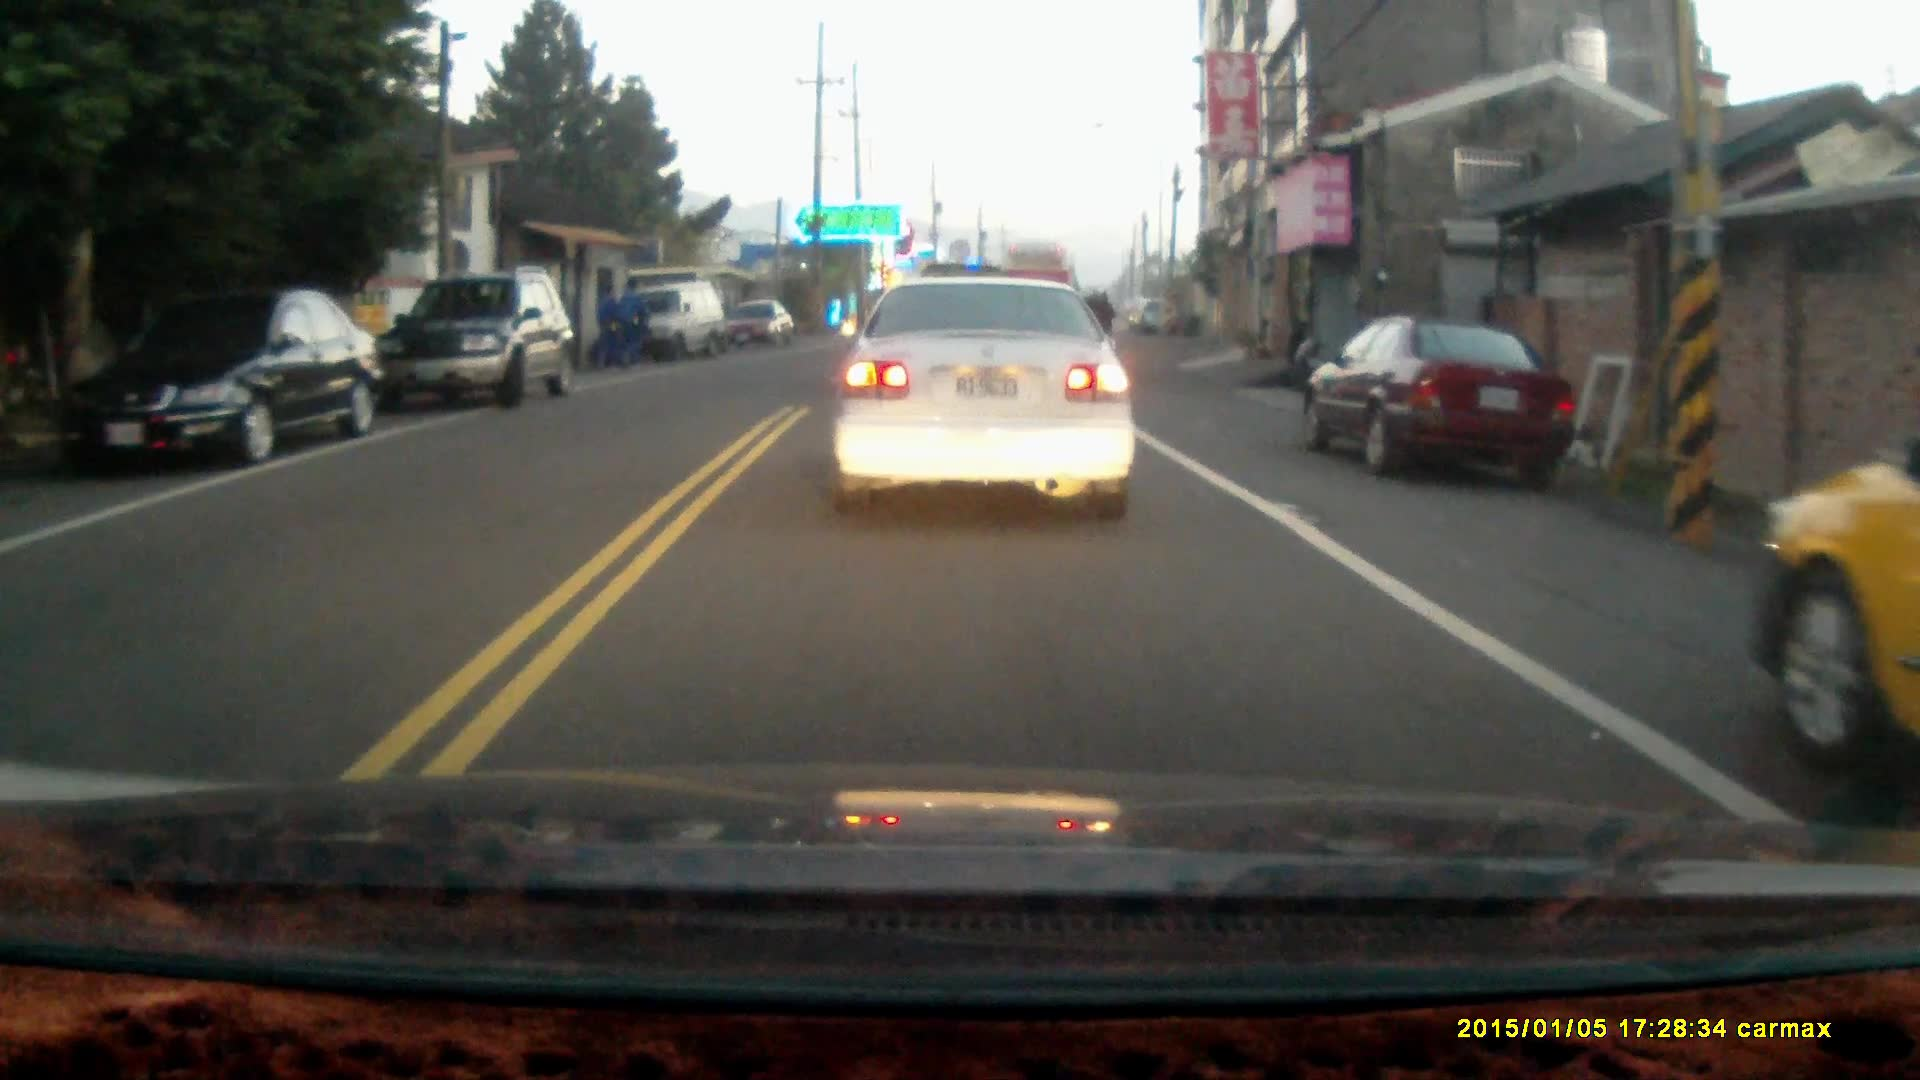pedestrian: (616, 272, 646, 367), (591, 279, 621, 371)
vehicle: (832, 272, 1142, 521), (1759, 413, 1920, 778), (65, 289, 380, 467), (1305, 313, 1579, 488), (377, 268, 576, 410), (621, 284, 737, 365), (711, 300, 797, 360)
